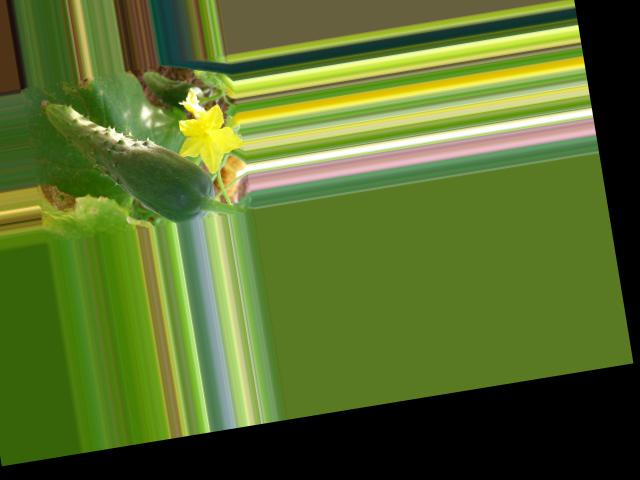cucumber: (40, 74, 218, 241)
